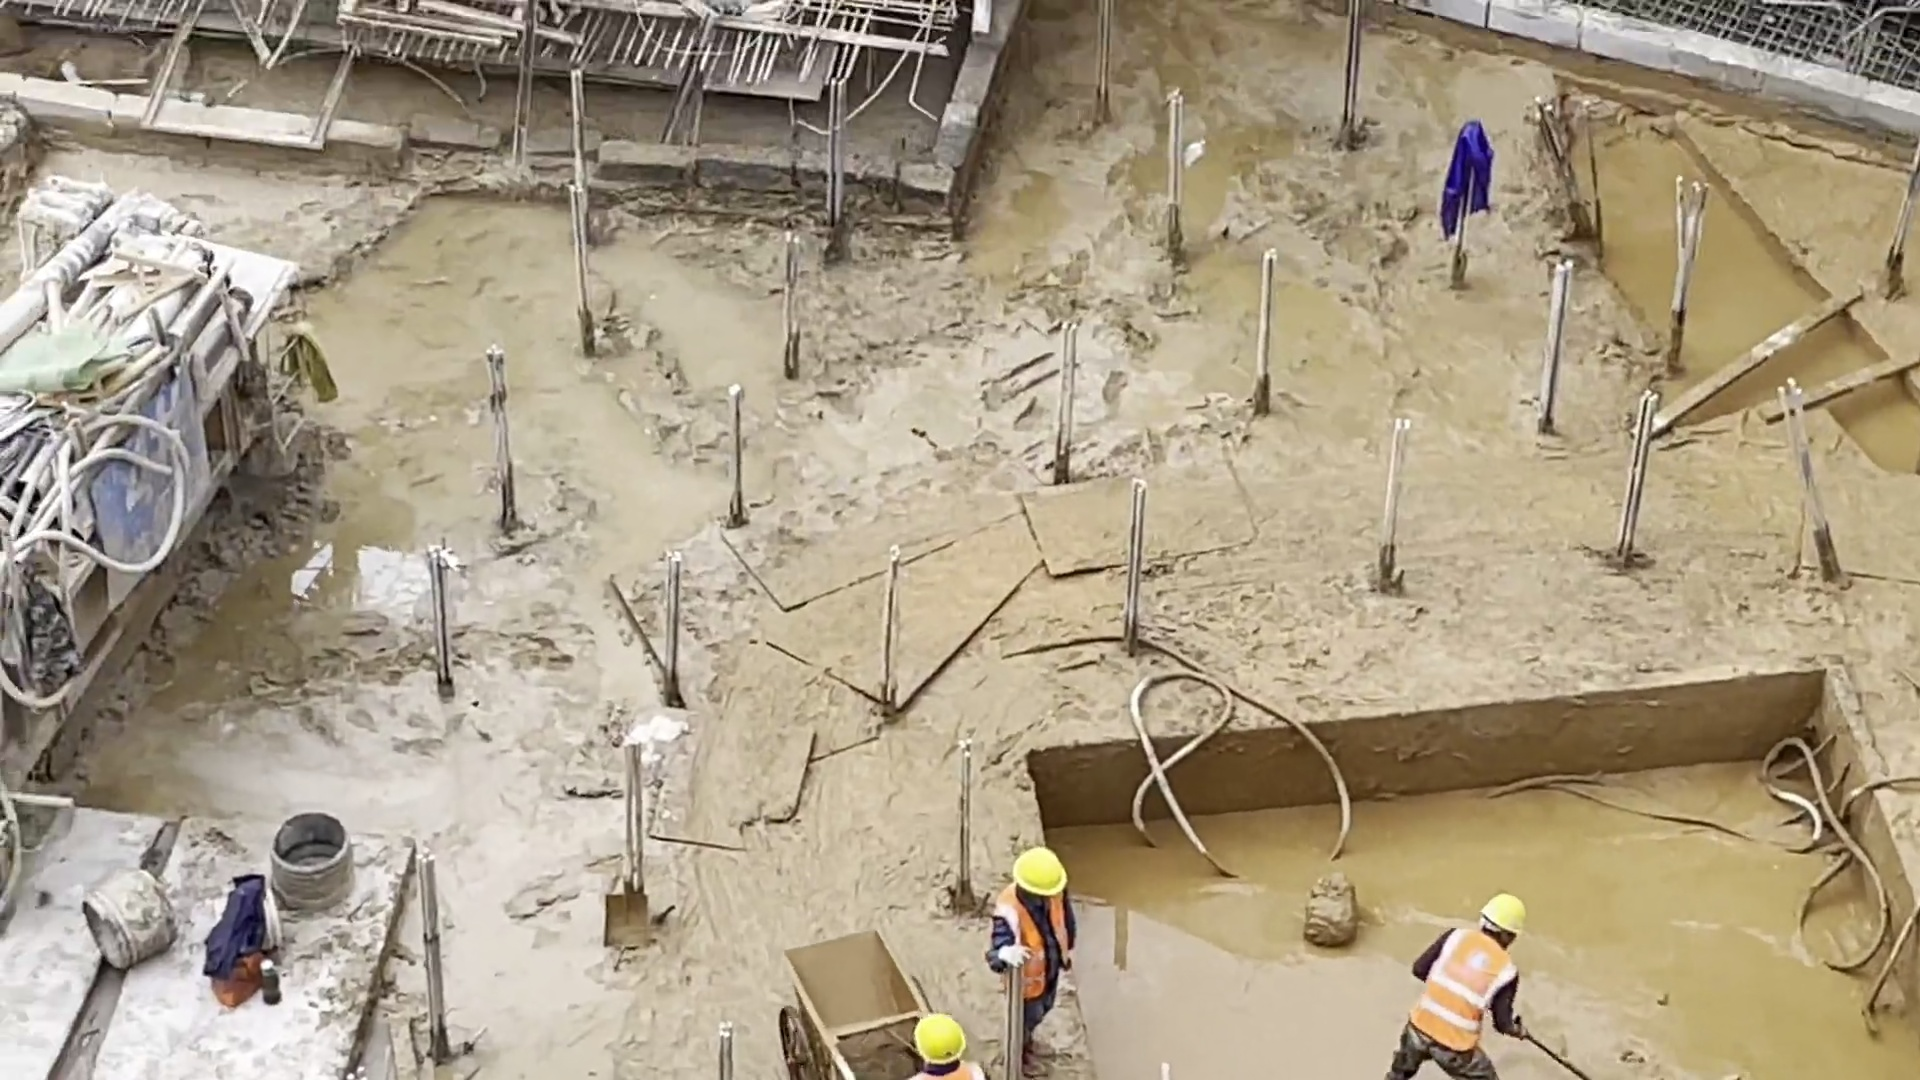helmet: (911, 1003, 969, 1070), (1009, 845, 1071, 896), (1480, 891, 1528, 934)
person: (1384, 886, 1537, 1080), (982, 843, 1075, 1074), (900, 1008, 981, 1080)
vest: (1400, 926, 1515, 1059), (990, 885, 1075, 999)
